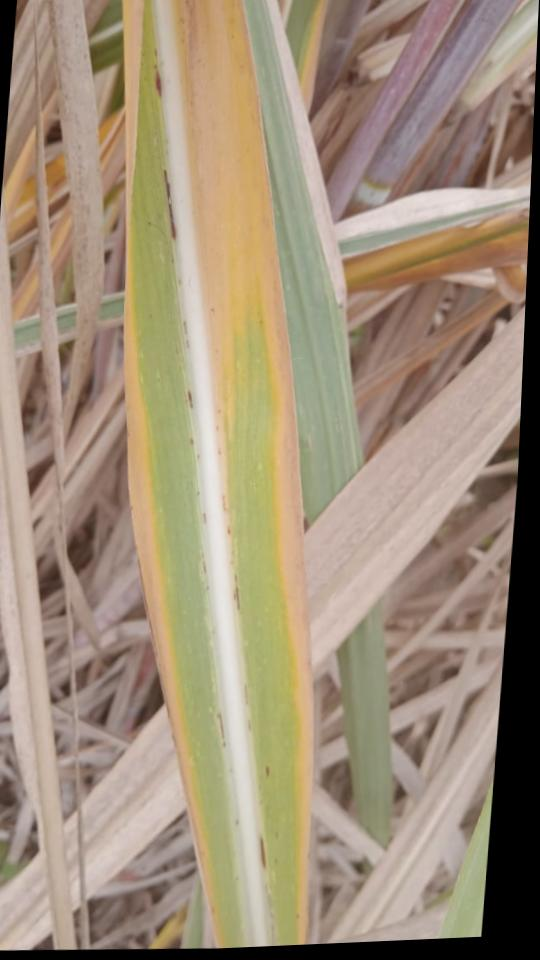RedRot: (154, 69, 162, 100)
Rust: (163, 168, 177, 242), (215, 711, 226, 749), (233, 574, 240, 611), (258, 837, 266, 869), (187, 389, 193, 410), (201, 551, 206, 575), (221, 493, 227, 513), (182, 320, 189, 337), (244, 682, 248, 705), (264, 766, 271, 779), (226, 524, 231, 536), (185, 338, 190, 350), (247, 718, 251, 732), (202, 512, 206, 525), (217, 446, 222, 455), (189, 439, 195, 446), (154, 47, 158, 57), (195, 453, 200, 460), (215, 425, 219, 432), (216, 409, 221, 414), (235, 819, 239, 825), (153, 65, 157, 70), (197, 491, 199, 496)
Yellow: (169, 0, 312, 945), (123, 212, 225, 947)
